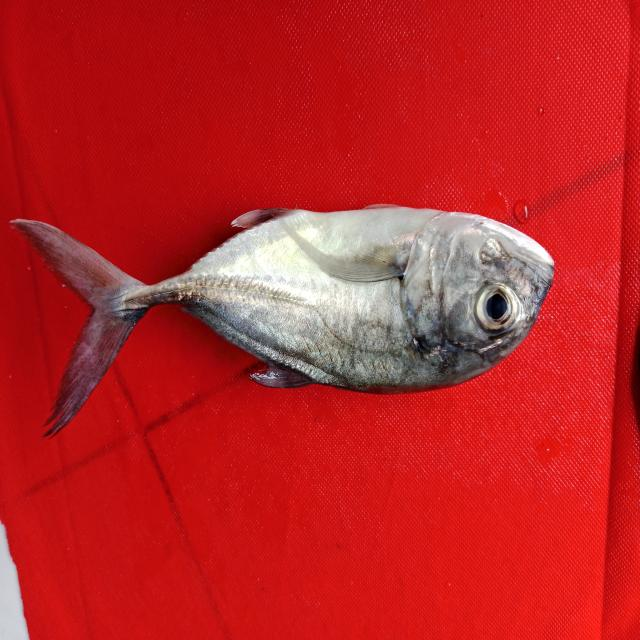ikan: (11, 164, 581, 448)
